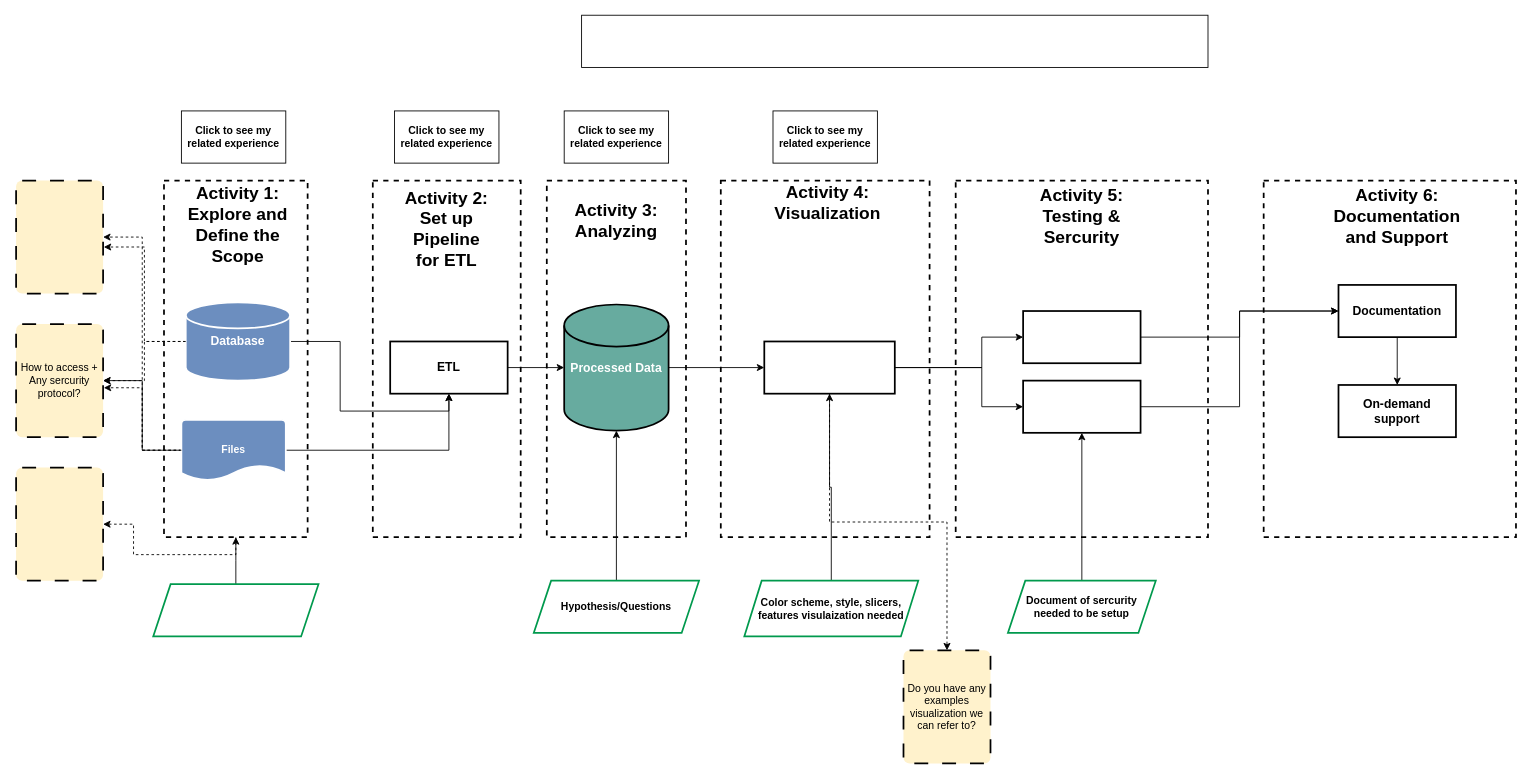
The diagram is 1531 pixels wide and 780 high, and some of its shapes have lost their labels. Here are the shapes that lost their labels. From the top down, the centre of each, then its label:
point (894, 40): My full portfolio
point (59, 236): Which tables/files are commonly used?
point (1081, 337): Testing
point (829, 367): Dashboard Setup
point (1081, 406): Sercurity
point (59, 523): Contact ponts: Database Access, VPN, NDA signing, ...
point (235, 610): Caching/Log/Explore
